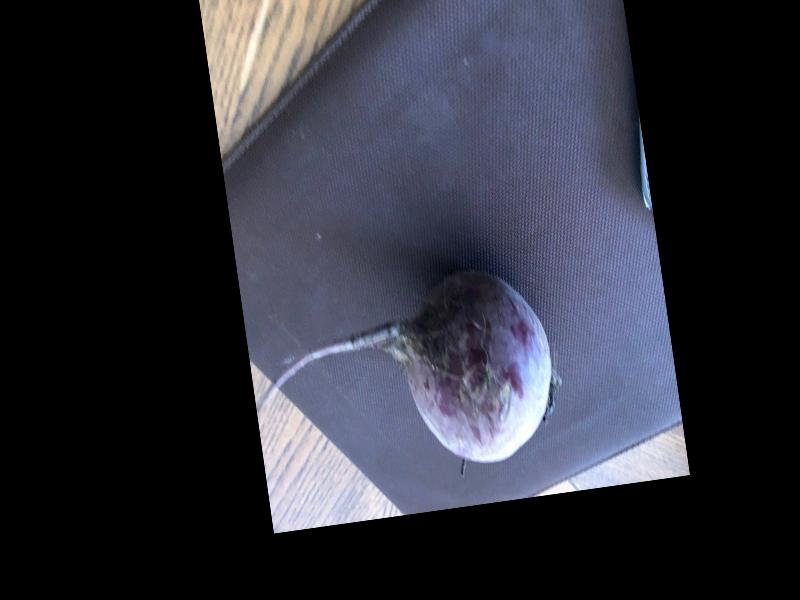Beet: (243, 262, 563, 492)
